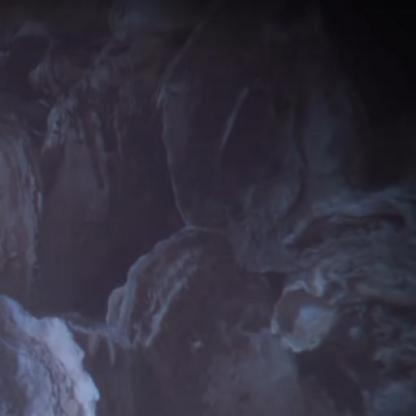Oyster- Indeterminate: (104, 231, 216, 407), (0, 299, 98, 416)
Oyster-Closed: (168, 4, 373, 270), (0, 119, 45, 305)
